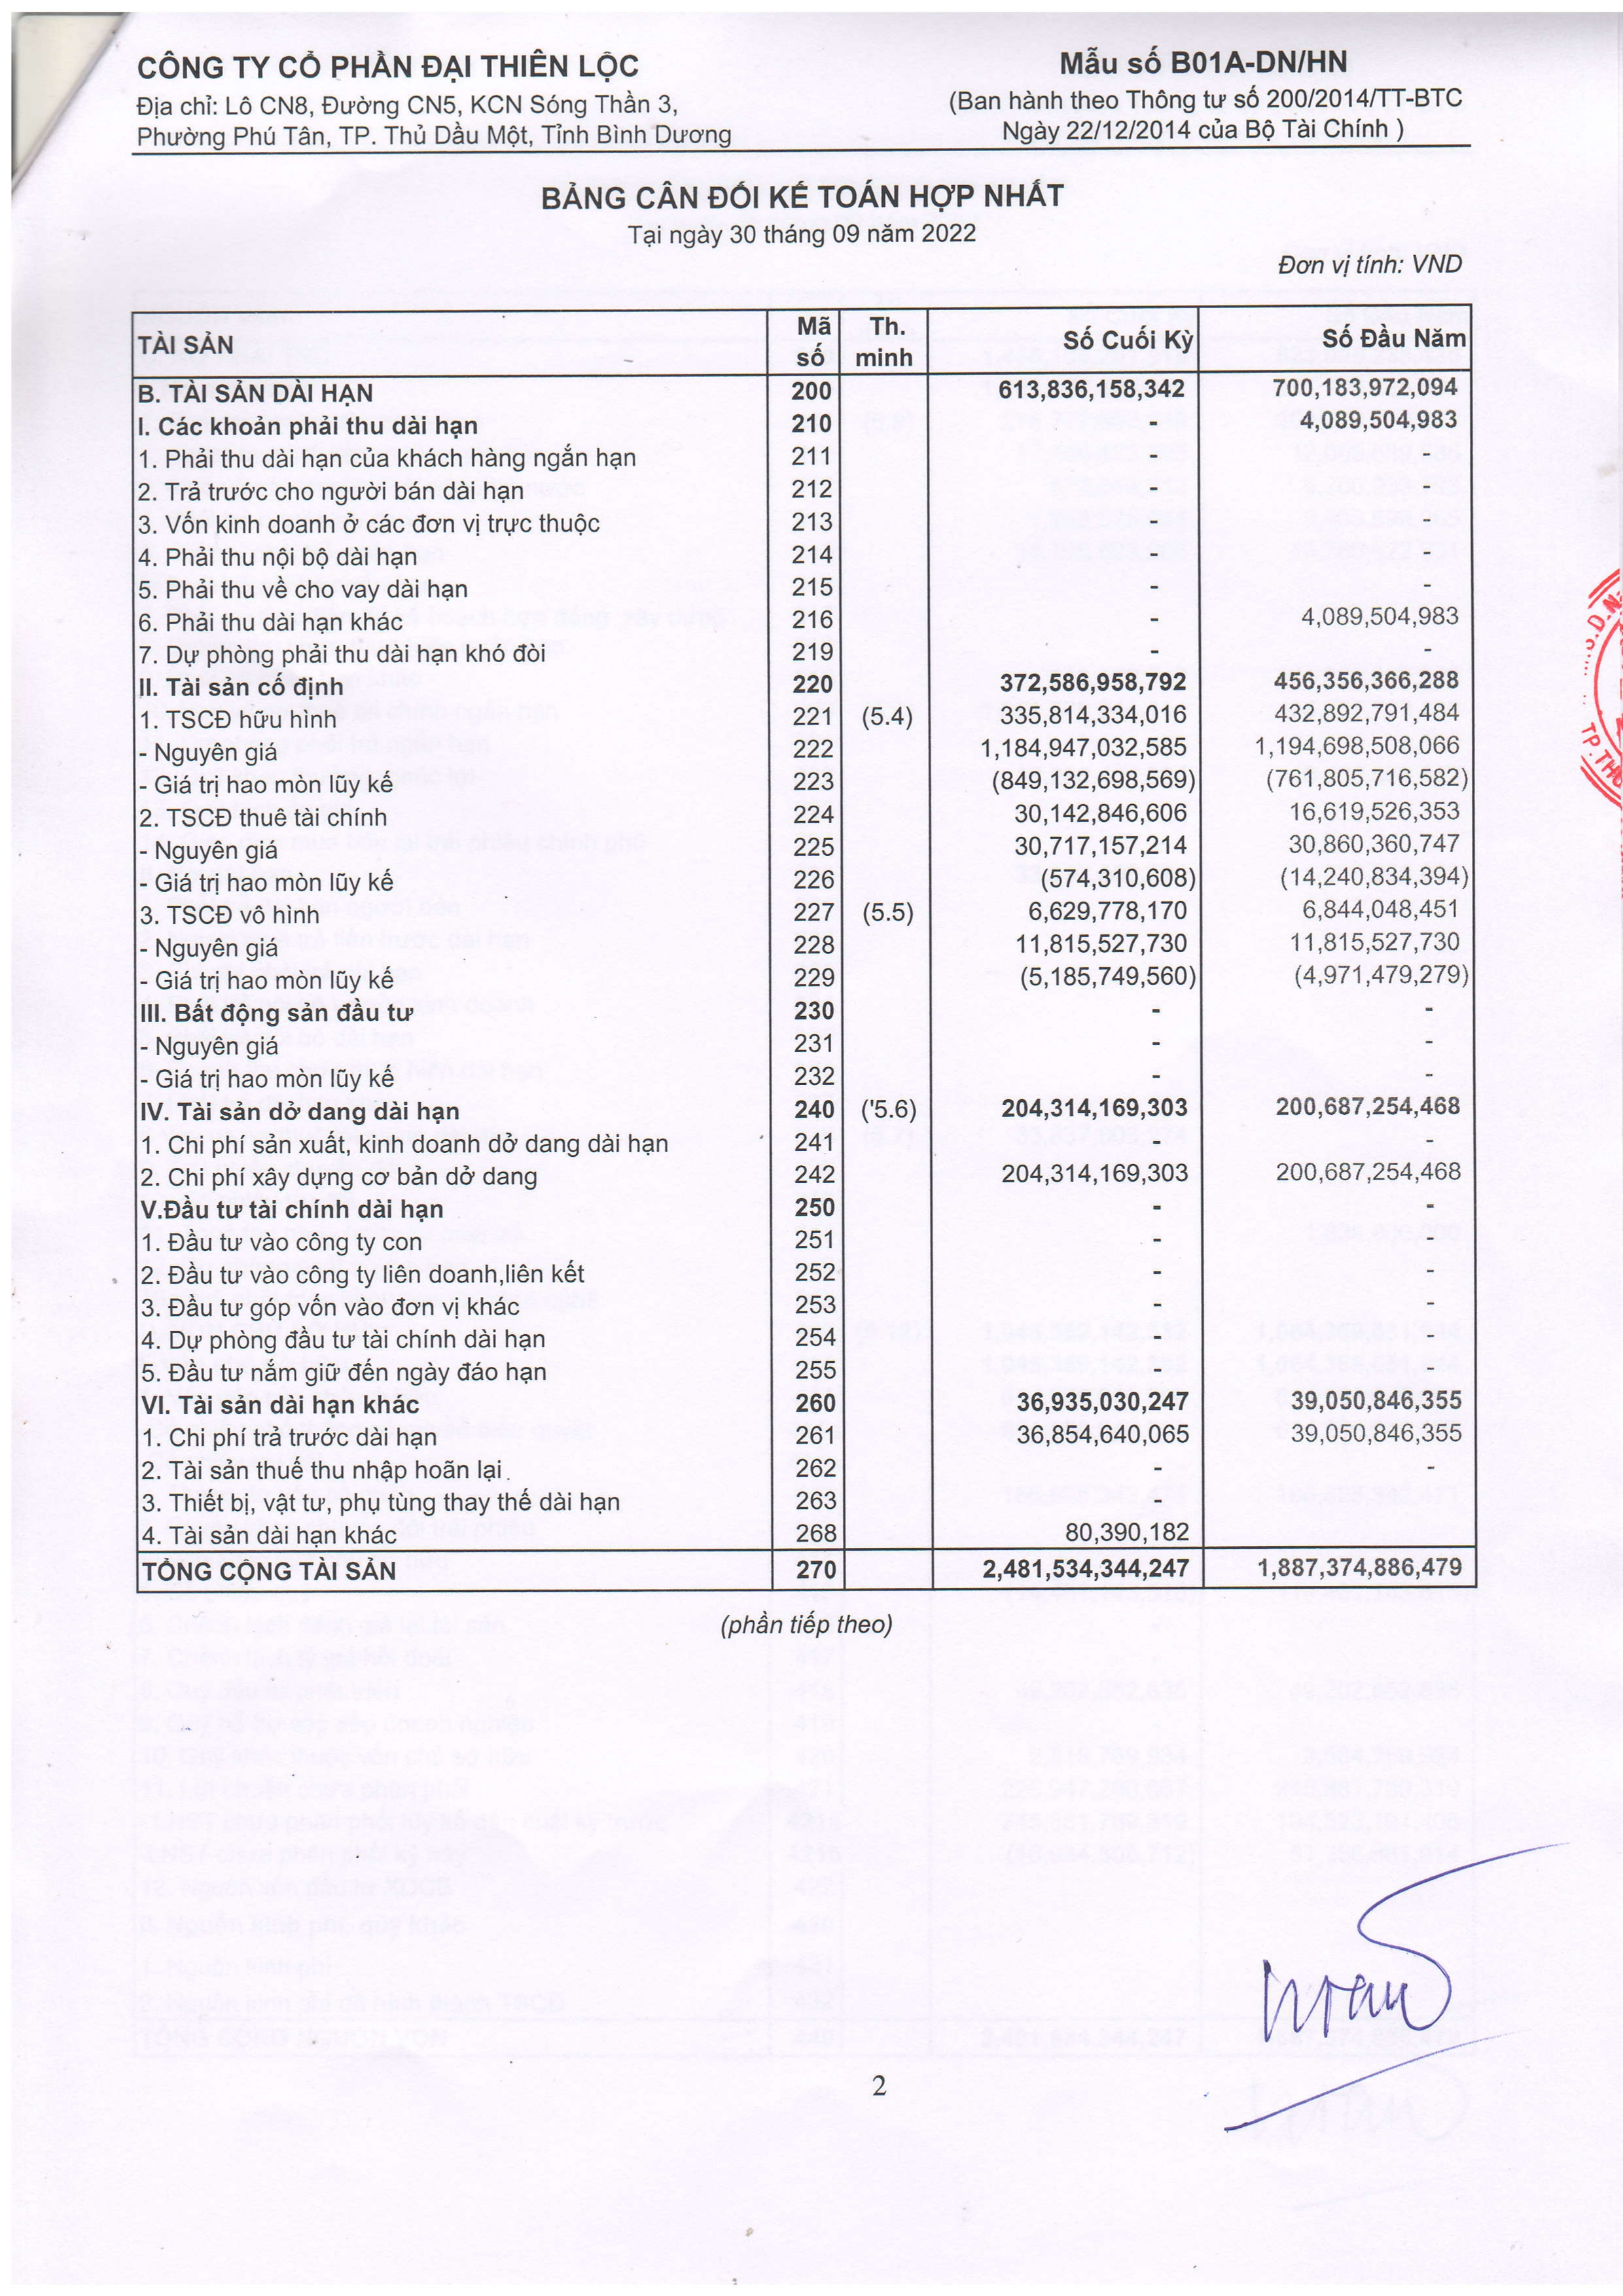table: (130, 302, 1477, 1594)
table column: (130, 302, 706, 1594), (1242, 302, 1477, 1594), (973, 302, 1205, 1594), (855, 302, 917, 1594), (789, 302, 838, 1594)
table column header: (130, 302, 1477, 376)
table row: (130, 314, 1477, 365), (130, 441, 1477, 470), (130, 474, 1477, 504), (130, 539, 1477, 569), (130, 572, 1477, 602), (130, 604, 1477, 634), (130, 637, 1477, 667), (130, 669, 1477, 699), (130, 702, 1477, 732), (130, 737, 1477, 767), (130, 800, 1477, 830), (130, 834, 1477, 864), (130, 867, 1477, 897), (130, 897, 1477, 927), (130, 964, 1477, 994), (130, 997, 1477, 1027), (130, 1030, 1477, 1060), (130, 1064, 1477, 1094), (130, 1097, 1477, 1127), (130, 1127, 1477, 1157), (130, 1162, 1477, 1192), (130, 1194, 1477, 1223), (130, 1227, 1477, 1257), (130, 1260, 1477, 1290), (130, 1325, 1477, 1355), (130, 1359, 1477, 1388), (130, 1390, 1477, 1420), (130, 1424, 1477, 1453), (130, 1489, 1477, 1518), (130, 1520, 1477, 1550), (130, 1557, 1477, 1587), (130, 376, 1477, 404), (130, 409, 1477, 437), (130, 507, 1477, 535), (130, 769, 1477, 797), (130, 934, 1477, 962), (130, 1294, 1477, 1322), (130, 1455, 1477, 1483)
